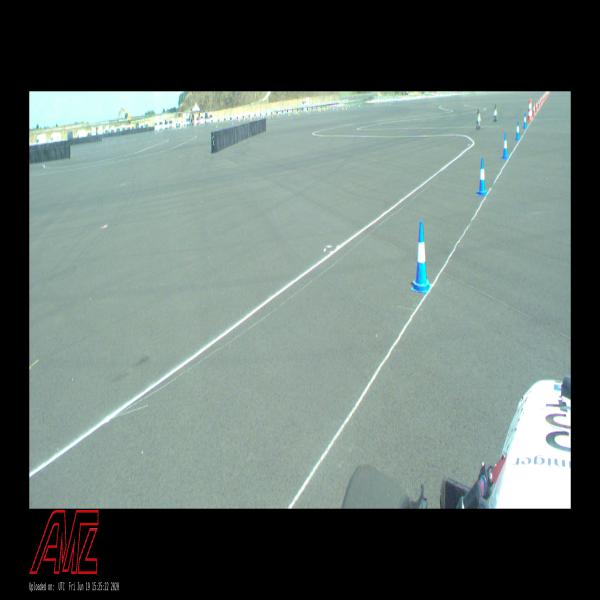blue_cone: (411, 220, 431, 293), (477, 157, 487, 196), (502, 133, 508, 159), (516, 121, 520, 140), (523, 113, 527, 128), (531, 108, 532, 121)
large_orange_cone: (528, 100, 532, 120), (530, 99, 533, 119)
orange_cone: (533, 103, 536, 115), (536, 100, 538, 110), (538, 98, 540, 108)
